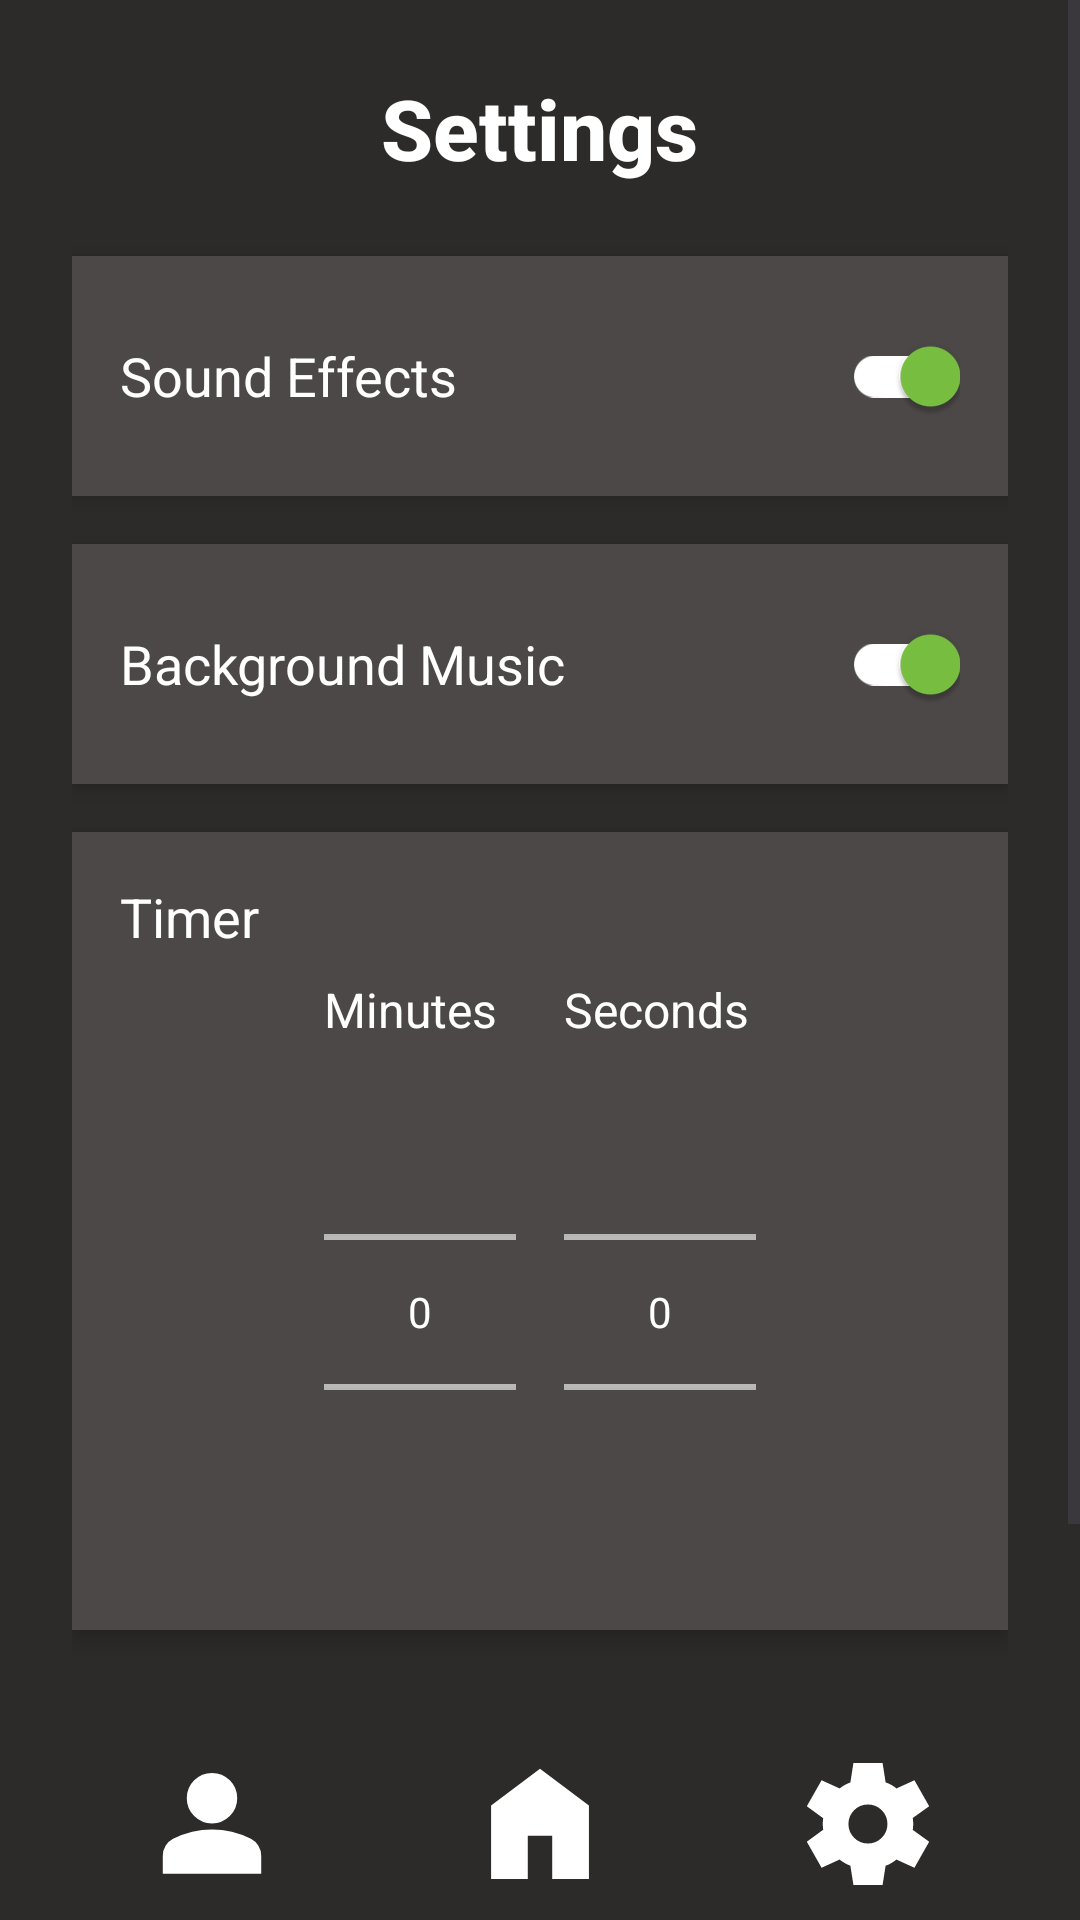

Icons on this 1080*1920 Android screen, each with its box as BBox(x1, y1, x2, y2):
home: BBox(491, 1769, 589, 1879)
settings: BBox(807, 1763, 929, 1885)
user: BBox(162, 1773, 262, 1874)
